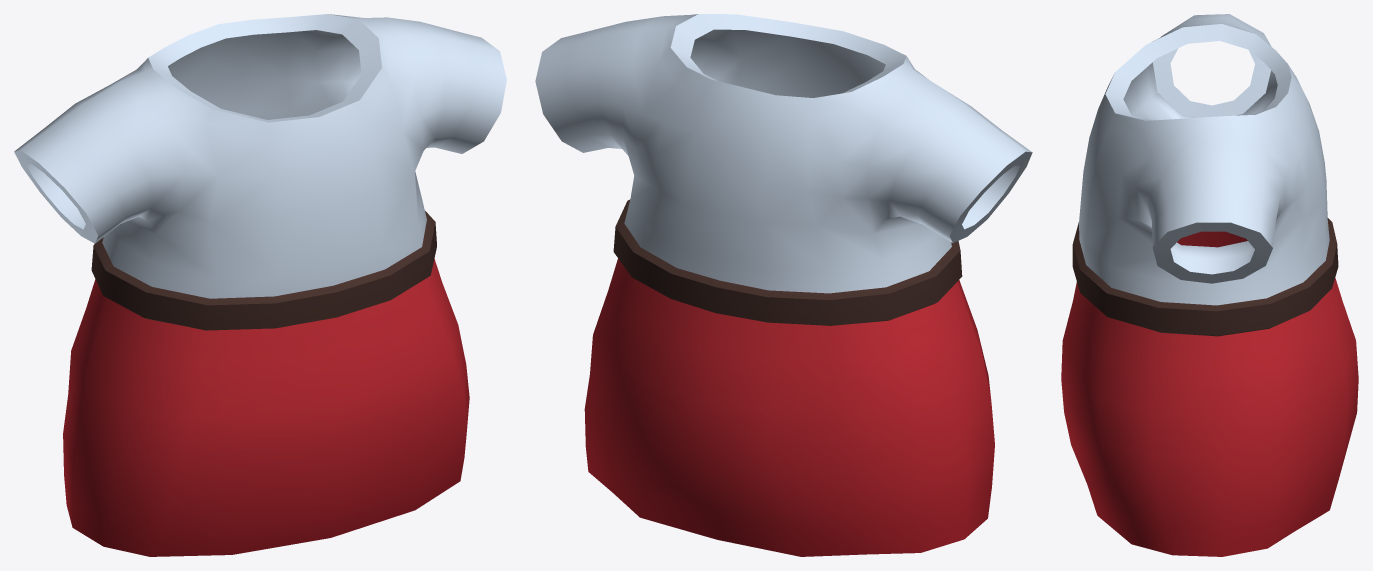
Rendered from Outfit_09.glb.
3 renders of one model, left to right at view 1: azimuth 30°, elevation 25°; view 2: azimuth 150°, elevation 25°; view 3: azimuth 270°, elevation 25°, orthographic. The views are drawn at different scales.
Parts seen in each view (by area): view 1: Outfit_09; view 2: Outfit_09; view 3: Outfit_09.
Boxes of the visible parts, left/top/right/bottom form: Outfit_09: left=14, top=14, right=506, bottom=556; Outfit_09: left=535, top=14, right=1032, bottom=556; Outfit_09: left=1061, top=14, right=1358, bottom=556.
Size of the model in its own units: 0.3914 by 0.3559 by 0.2373.
1 material, 1 textured.
